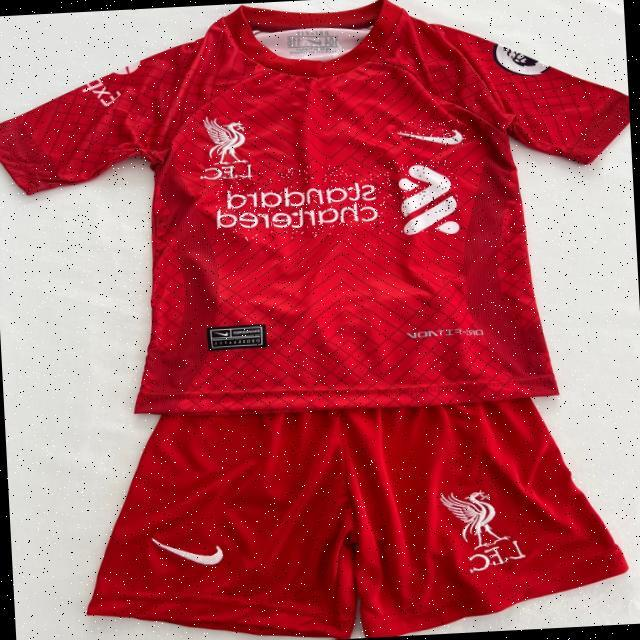Nike: (149, 531, 225, 571), (400, 119, 470, 148)
Standard Chartered: (214, 159, 459, 243)
